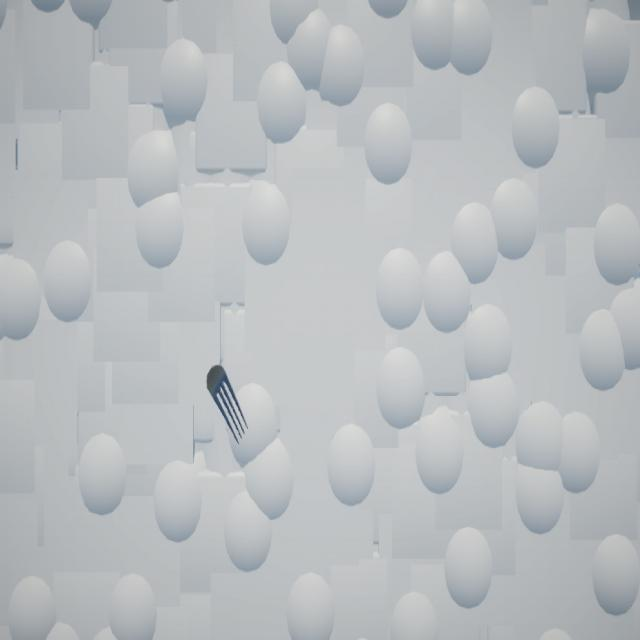top_folk: (208, 366, 249, 446)
